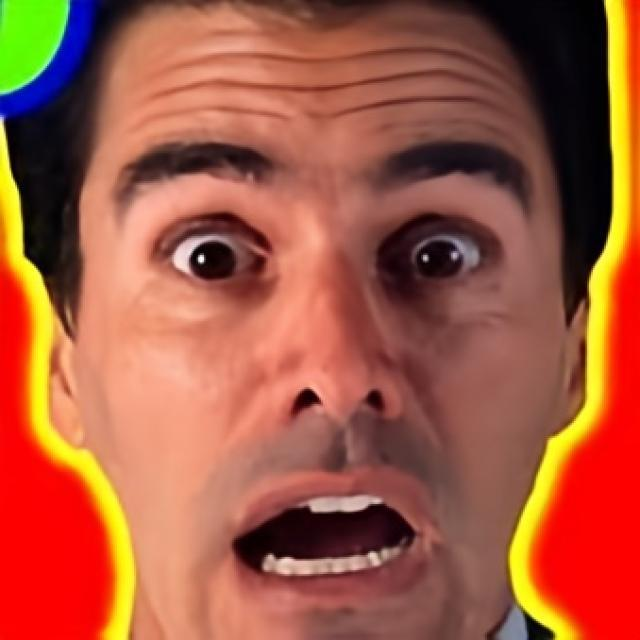fear: (79, 8, 565, 640)
